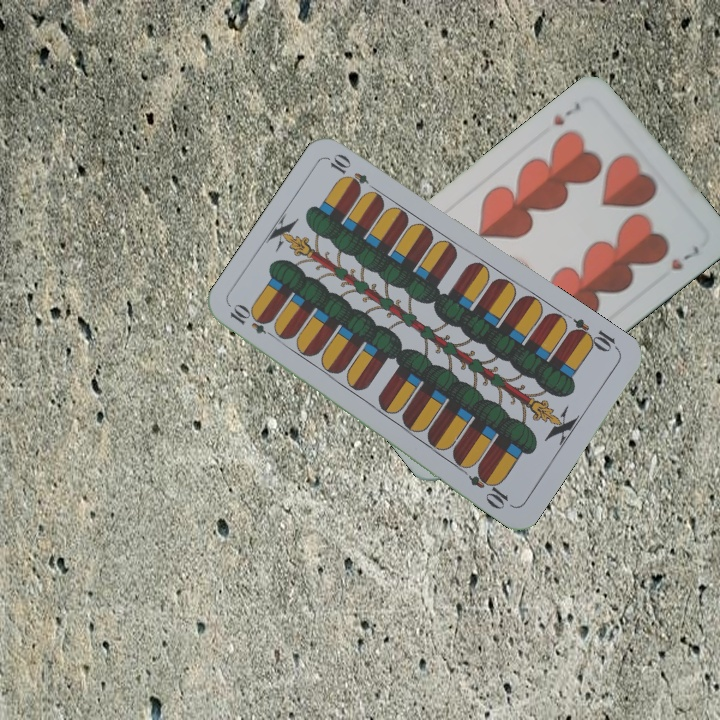E10: (565, 314, 622, 355), (225, 301, 281, 342)
H7: (549, 98, 583, 129)
